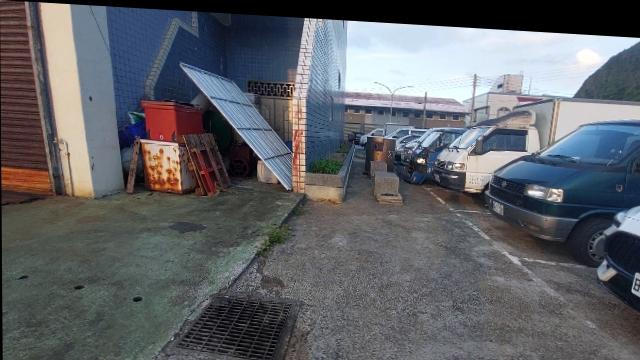pollute: (178, 132, 231, 193), (140, 137, 194, 194), (141, 97, 205, 142), (117, 110, 144, 145), (228, 143, 252, 176), (127, 134, 140, 191), (256, 157, 277, 180), (120, 145, 132, 170)
